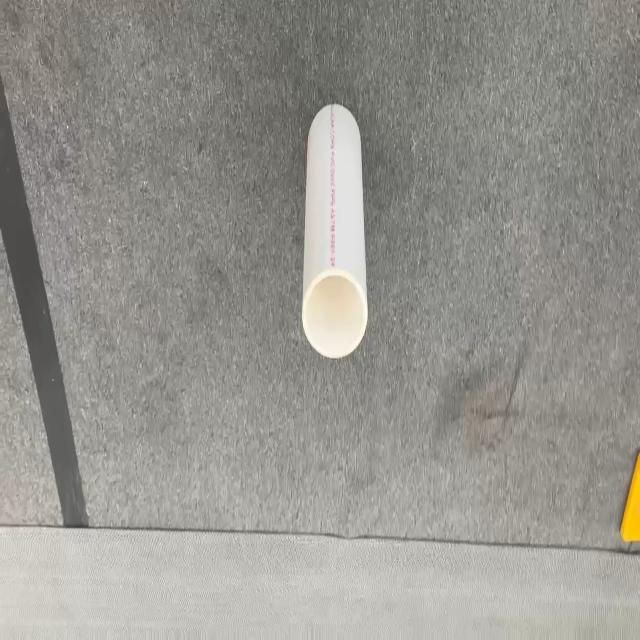coral: (301, 101, 368, 359)
